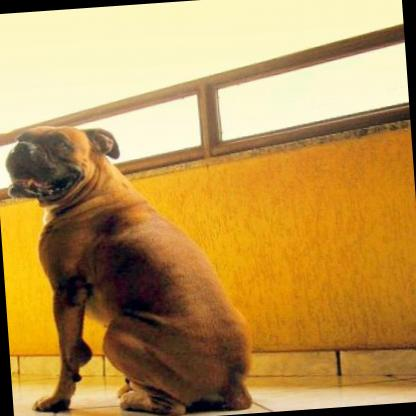boxer: (0, 109, 259, 416)
